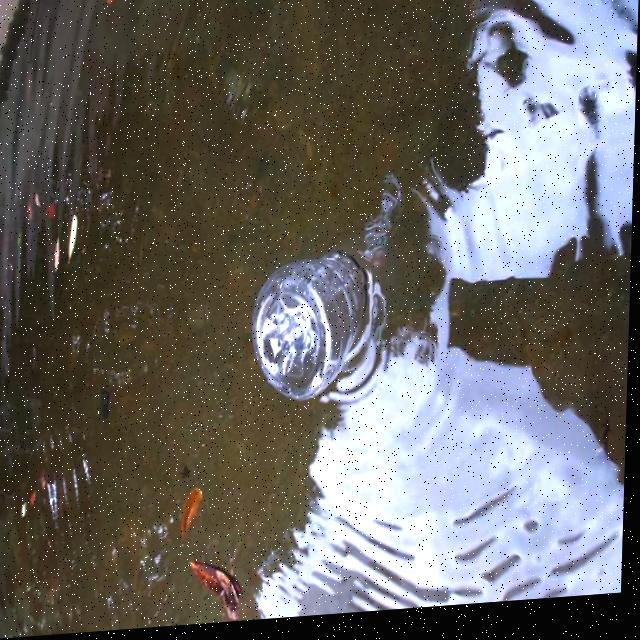leaf: (171, 468, 252, 629)
waterbottle: (239, 212, 434, 423)
